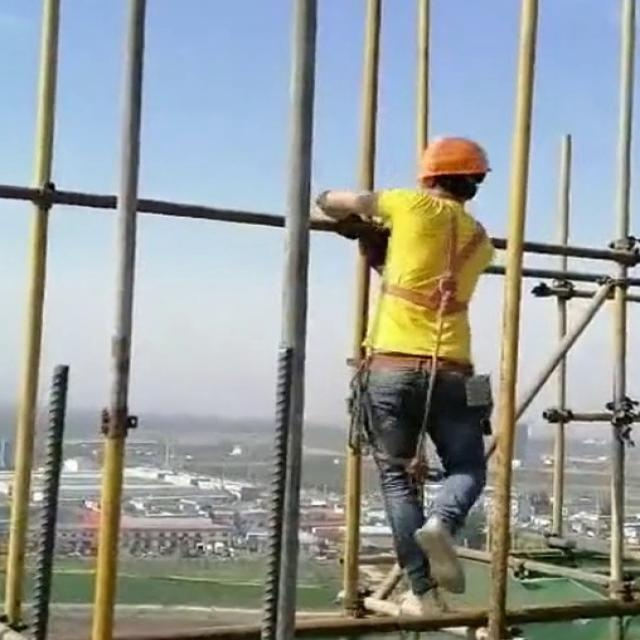Arnes_seguridad: (369, 187, 488, 328)
